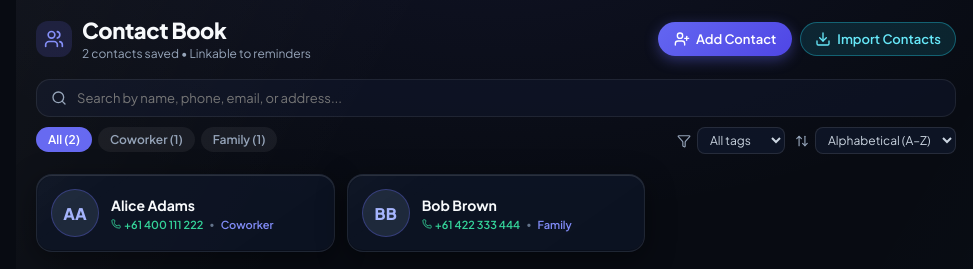
Test: Contact Book UI: create, view, edit, delete › filters contacts by search query and by relationship
This screenshot has width=973, height=269.
Expected: the heading "Alice Adams" is shown, [111,196,195,214]
Expected: the heading "Bob Brown" is shown, [422,196,497,214]
Type "422" into the field with placeholder "Search by name, phone, email, or address..." at (509, 98), box [77,90,941,106]
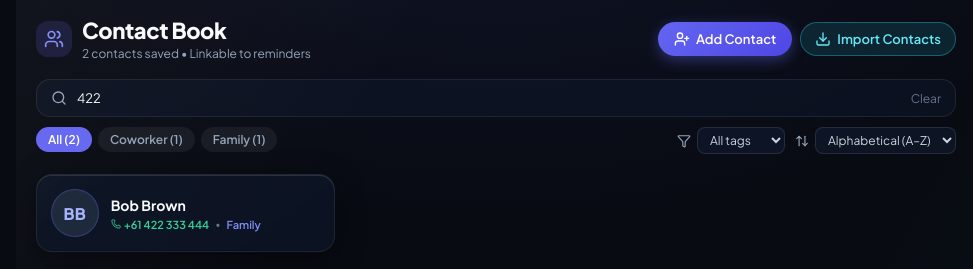
Expected: the heading "Bob Brown" is shown, [111,196,186,214]
Expected: the heading "Alice Adams" is gone
Clear the field with placeholder "Search by name, phone, email, or address..." at (489, 98), box [77,90,901,106]
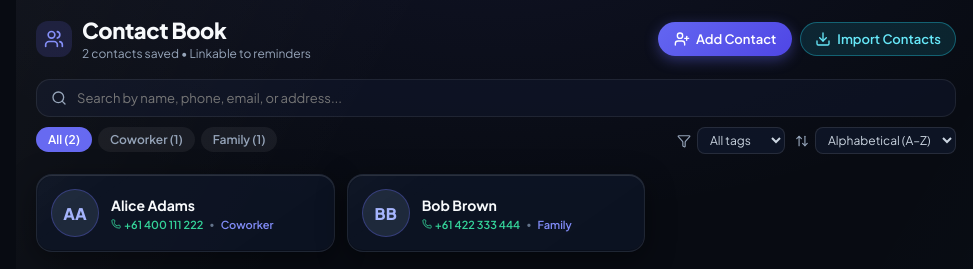
Click the button "Coworker (1)" at (146, 140), box [98,127,195,152]
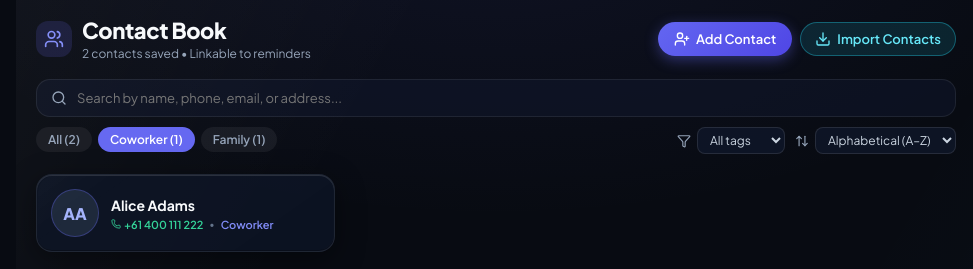
Expected: the heading "Alice Adams" is shown, [111,196,195,214]
Expected: the heading "Bob Brown" is gone
